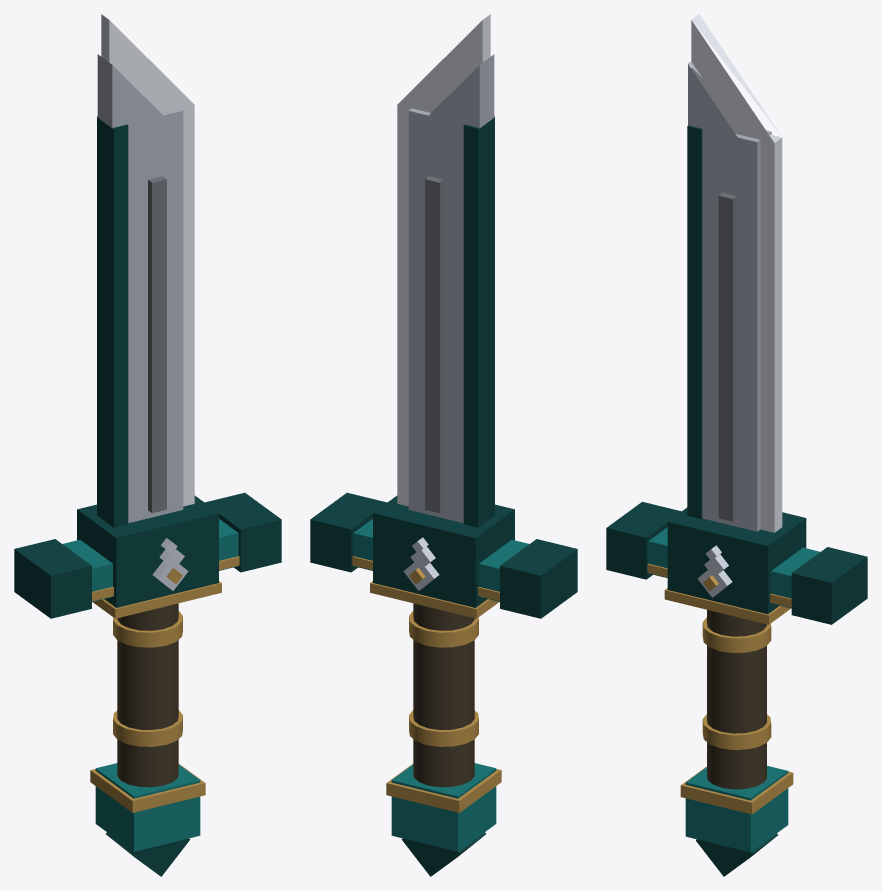
3 renders of one model, left to right at view 1: azimuth 30°, elevation 25°; view 2: azimuth 150°, elevation 25°; view 3: azimuth 330°, elevation 25°, orthographic. The views are drawn at different scales.
Visible parts, largest first — view 1: scavenger-tanto; view 2: scavenger-tanto; view 3: scavenger-tanto.
Boxes of the visible parts, <box> form: scavenger-tanto: <box>14,14,281,876</box>; scavenger-tanto: <box>310,14,577,876</box>; scavenger-tanto: <box>606,14,867,876</box>.
Bounding box in the file's own units: 0.1574 × 0.5608 × 0.0666.
